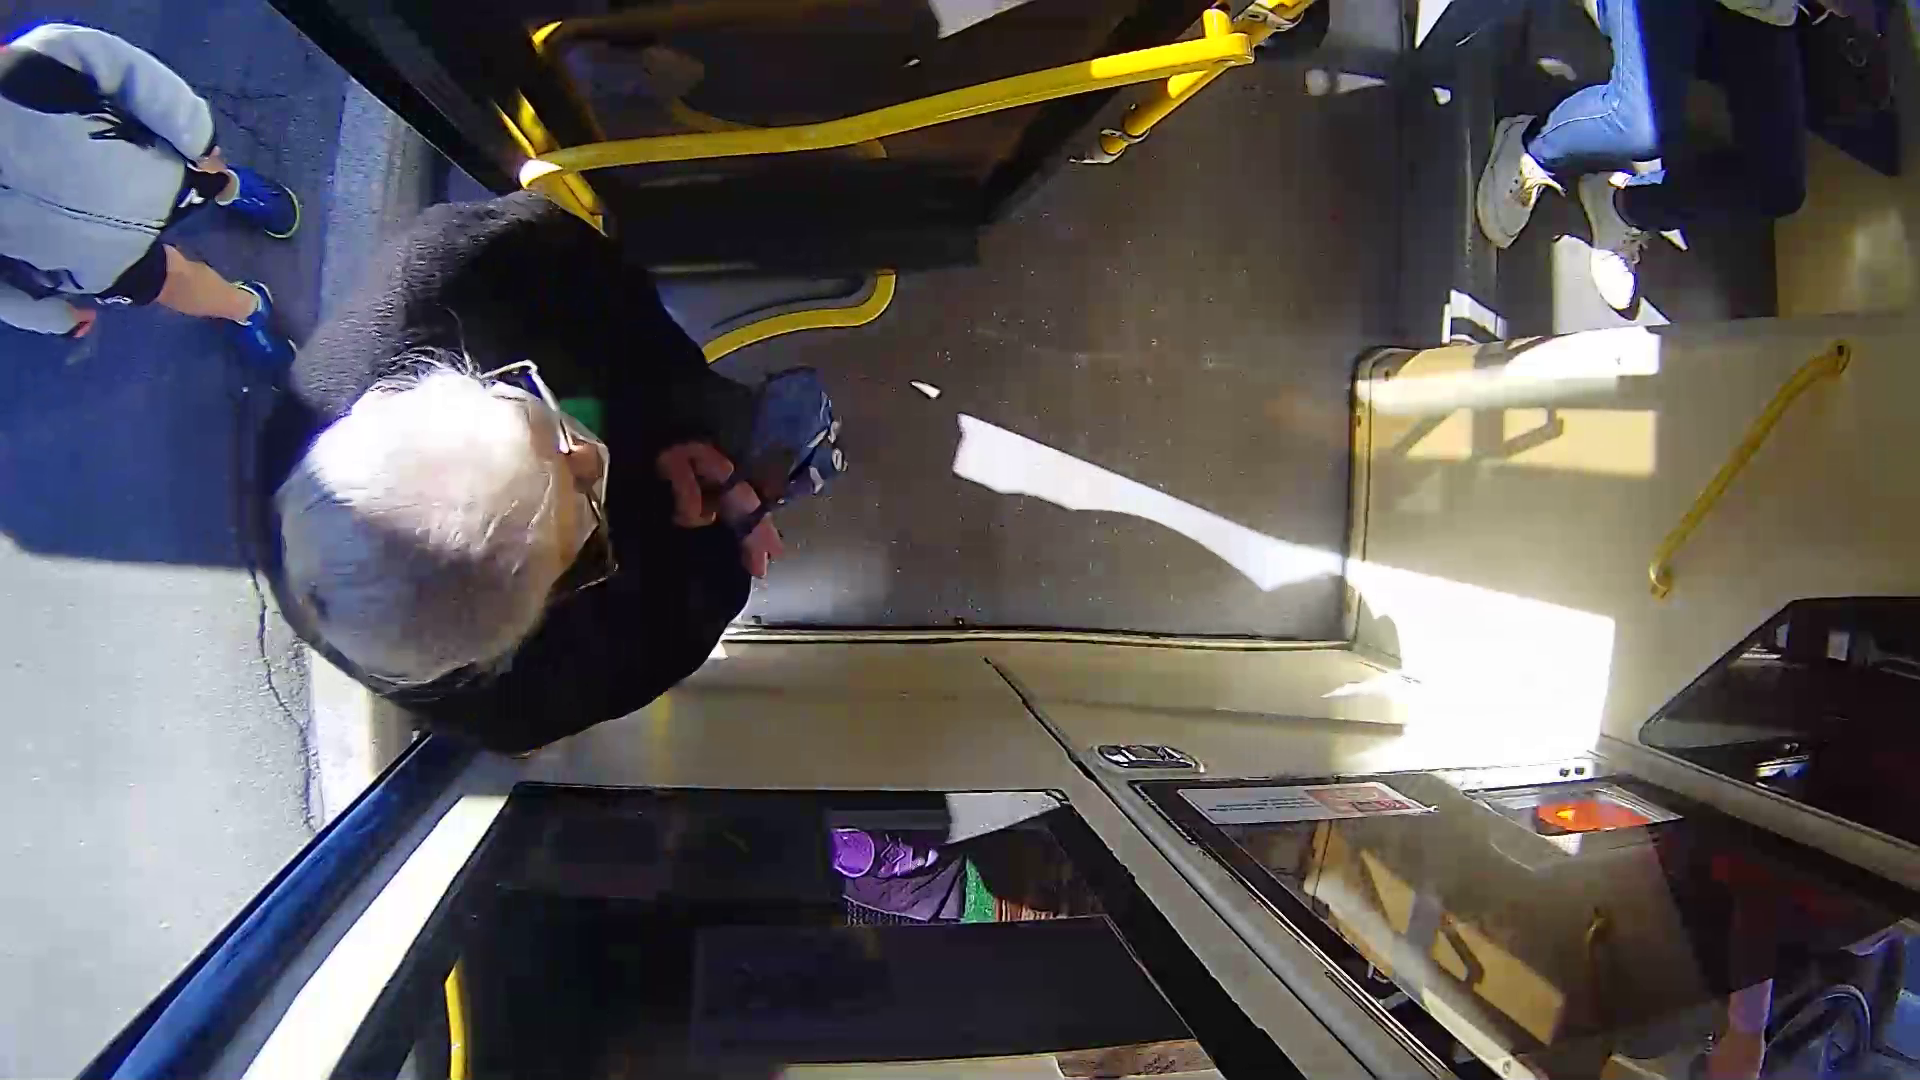person: (215, 187, 947, 717)
